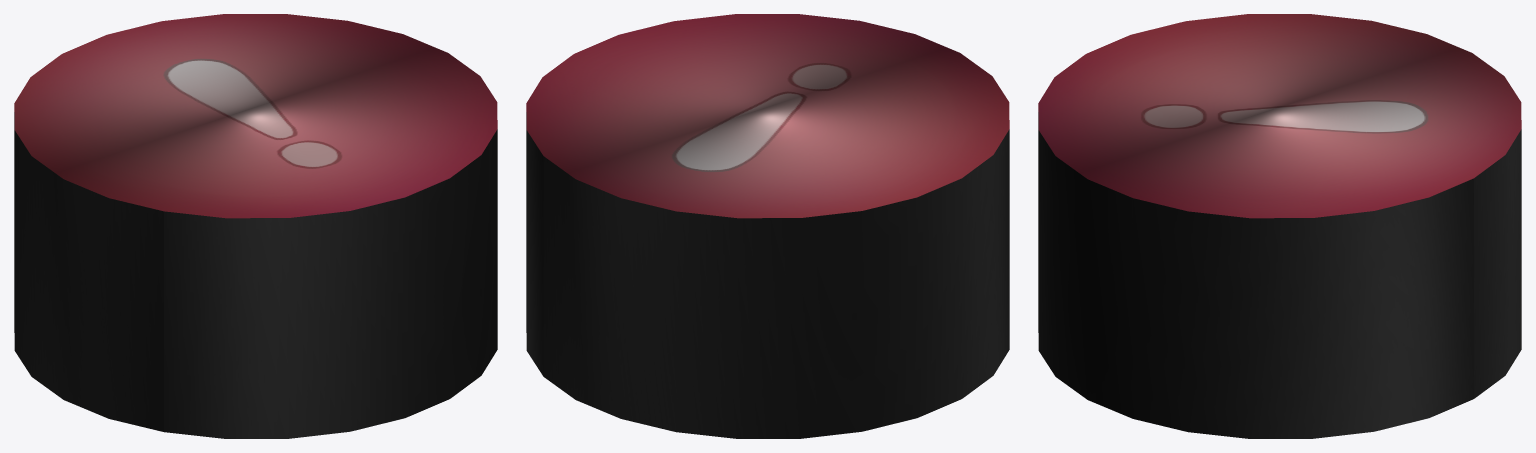
3 renders of one model, left to right at view 1: azimuth 30°, elevation 25°; view 2: azimuth 150°, elevation 25°; view 3: azimuth 270°, elevation 25°, orthographic.
Visible parts, largest first — view 1: Cylinder; view 2: Cylinder; view 3: Cylinder.
Part boxes in pixels (<box>): Cylinder: <box>14,14,497,438</box>; Cylinder: <box>526,14,1009,438</box>; Cylinder: <box>1038,14,1521,438</box>.
Size of the model in its own units: 371 by 187 by 371.
1 material, 1 textured.
